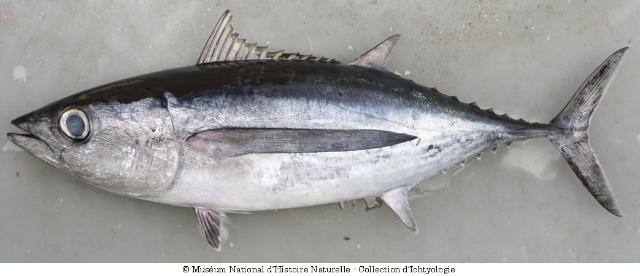Mulut: (0, 100, 72, 182)
Sirip Anal: (374, 174, 436, 244)
Sirip Dada: (170, 114, 436, 166)
Sirip Ekor: (534, 40, 640, 228)
Sirip Perut: (175, 194, 237, 258)
Sirip Punggung: (188, 5, 418, 87)
